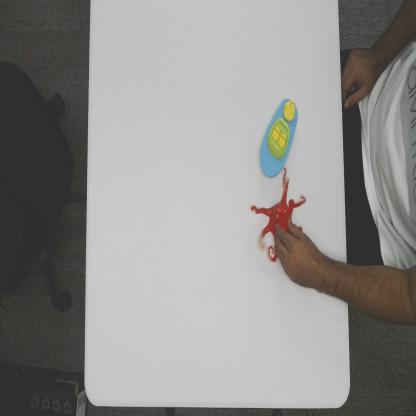Boat: (258, 96, 300, 179)
Hand: (273, 216, 334, 289)
Octopus: (250, 167, 306, 265)
